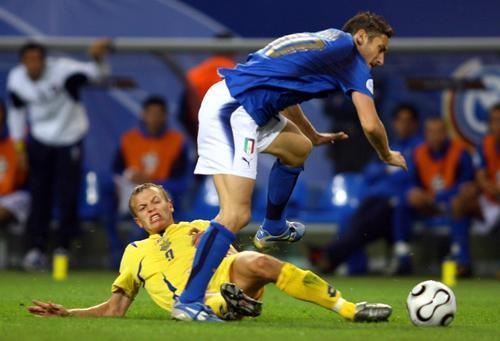falling: (27, 176, 412, 319)
